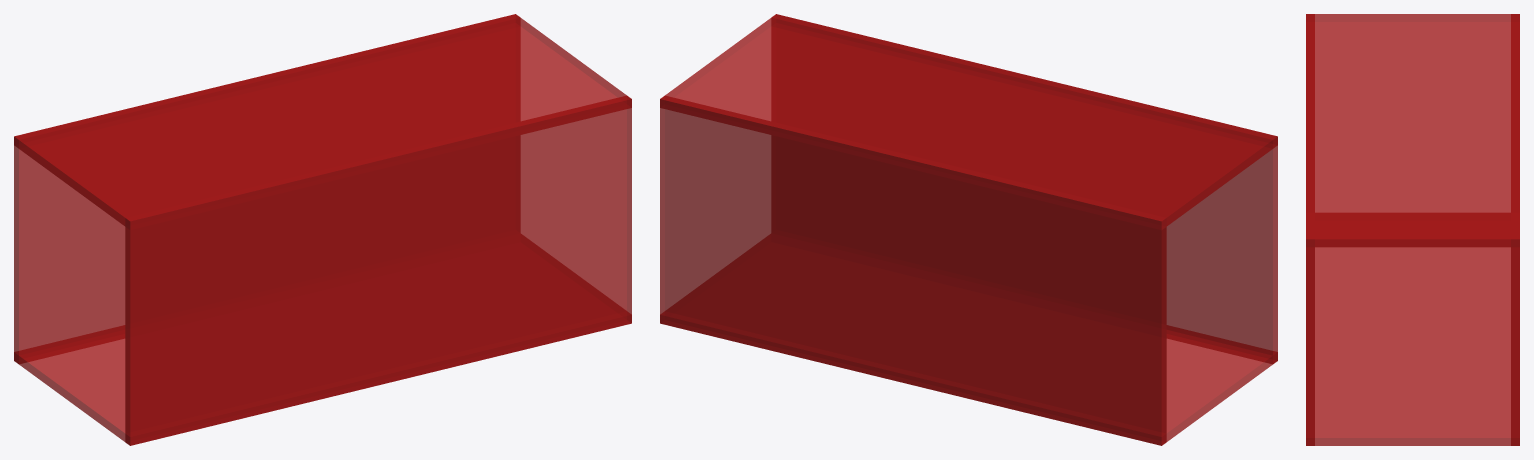
Rendered from SM_Prop_Container_Doors_01_Collision.fbx.
The picture shows the model from 3 angles, left to right: view 1: azimuth 30°, elevation 25°; view 2: azimuth 150°, elevation 25°; view 3: azimuth 270°, elevation 25°; orthographic projection. The views are drawn at different scales.
Visible parts, largest first — view 1: SM_Prop_Container_Doors_01_Collision; view 2: SM_Prop_Container_Doors_01_Collision; view 3: SM_Prop_Container_Doors_01_Collision.
Boxes of the visible parts, box(x1,y1,x2,y2) form: SM_Prop_Container_Doors_01_Collision: box(14, 14, 631, 445); SM_Prop_Container_Doors_01_Collision: box(660, 14, 1277, 445); SM_Prop_Container_Doors_01_Collision: box(1306, 14, 1519, 445).
Size of the model in its own units: 606 by 259 by 243.
